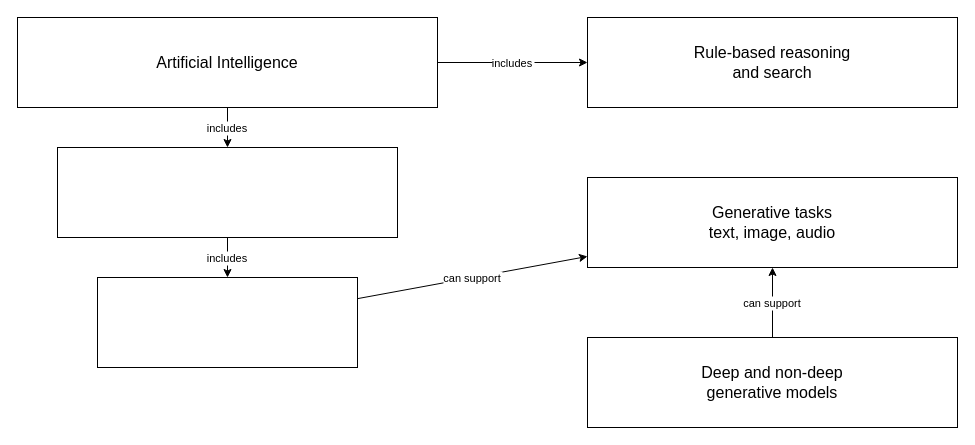
Image size: 975x445. Some labels were removed from this diagram. The shapes that lost their labels are listed below. From the top down, each one's centre as x and y in pixels, then its label:
(x=227, y=192): Machine Learning
(x=227, y=322): Deep Learning
